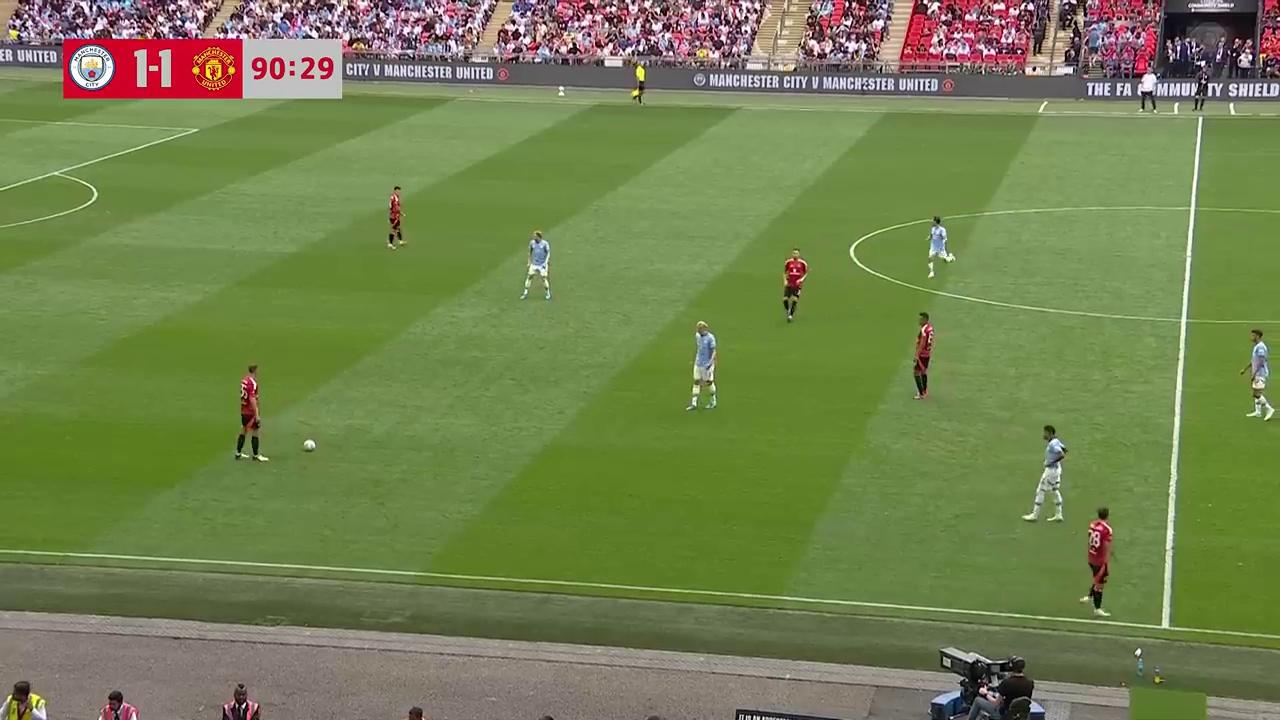ball: (302, 436, 316, 452)
player: (1021, 424, 1067, 522), (1078, 505, 1114, 613), (234, 363, 269, 462), (1239, 328, 1276, 421), (685, 320, 718, 411), (520, 228, 552, 301), (912, 311, 936, 400), (782, 249, 808, 321), (925, 216, 955, 278), (386, 185, 408, 250)
referee: (631, 59, 647, 105)
